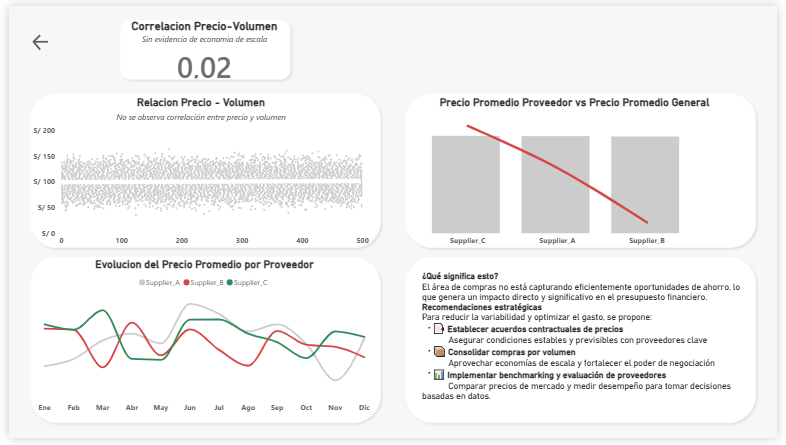

Layout of this report page (visuals, bound fields, positions):
{"tool":"powerbi","page":{"name":"Página 2","canvas":[1280,720],"ordinal":1},"visuals":[{"type":"lineChart","title":"Evolucion del Precio Promedio por Proveedor","fields":{"Series":["dim_proveedores.supplier_name"],"Category":["Dim_Calendario.Mes"],"Y":["Avg(dim_ordenes_new.unit_price)"]},"box":[35,420,581.7,266.7],"z":0},{"type":"scatterChart","title":"Relacion Precio - Volumen","fields":{"X":["dim_ordenes_new.quantity"],"Y":["dim_ordenes_new.unit_price"]},"box":[35,150,570,258.3],"z":1000},{"type":"cardVisual","title":"Correlacion Precio-Volumen","fields":{"Data":["Medidas.Correlacion Precio-Cantidad"]},"box":[162.5,21,325,129],"z":2000},{"type":"lineClusteredColumnComboChart","title":"Precio Promedio Proveedor vs Precio Promedio General","fields":{"Category":["dim_proveedores.supplier_name"],"Y":["Avg(dim_ordenes_new.unit_price)"],"Y2":["Avg(dim_ordenes_new.unit_price)"]},"box":[640,150,605,258.8],"z":3000},{"type":"textbox","box":[682.9,437.1,560,235.7],"z":4000},{"type":"actionButton","box":[35.7,37.1,35.7,48.6],"z":5000}]}

Visuals, with their boxes in screenshot pixels (x1, y1, x2, y2), scaled from the page's 1280x720 canvas onto the 786x445 screenshot:
"Evolucion del Precio Promedio por Proveedor" lineChart: bbox(21, 260, 379, 424)
"Relacion Precio - Volumen" scatterChart: bbox(21, 93, 372, 252)
"Correlacion Precio-Volumen" cardVisual: bbox(100, 13, 299, 93)
"Precio Promedio Proveedor vs Precio Promedio General" lineClusteredColumnComboChart: bbox(393, 93, 765, 253)
textbox: bbox(419, 270, 763, 416)
actionButton: bbox(22, 23, 44, 53)
